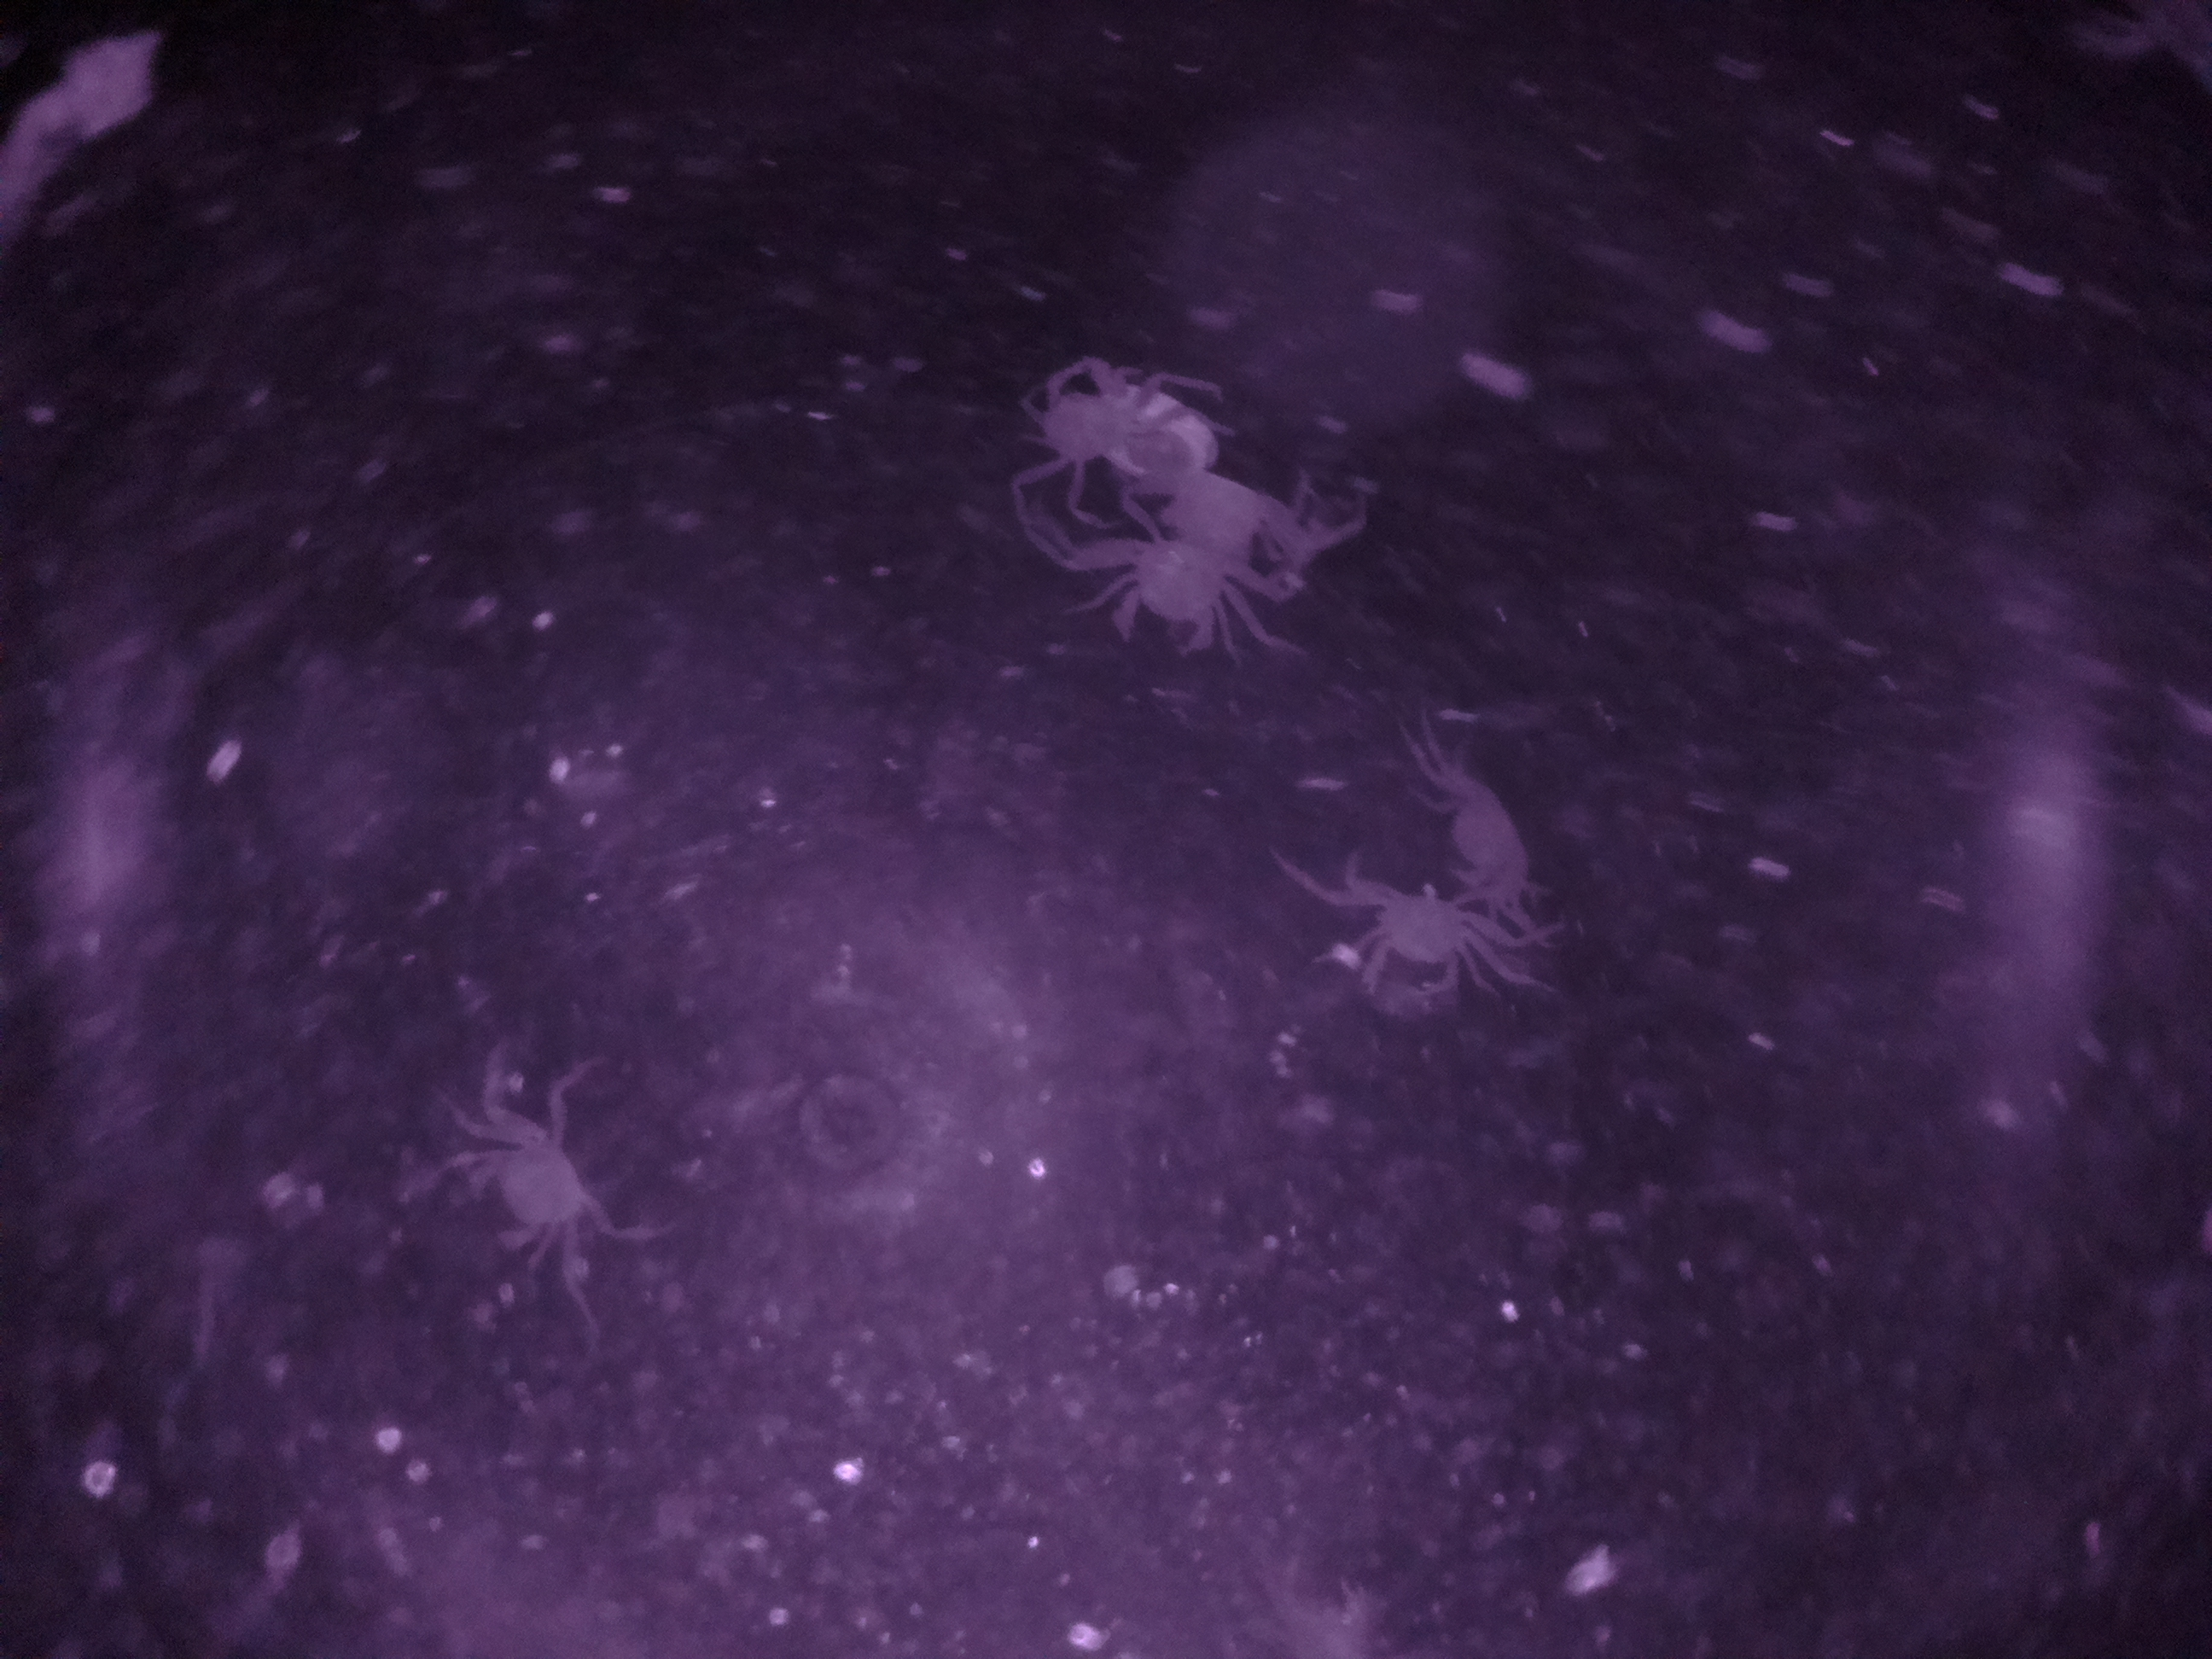Crab: (1301, 842, 1527, 1033), (1059, 514, 1289, 669), (430, 1101, 632, 1272)
